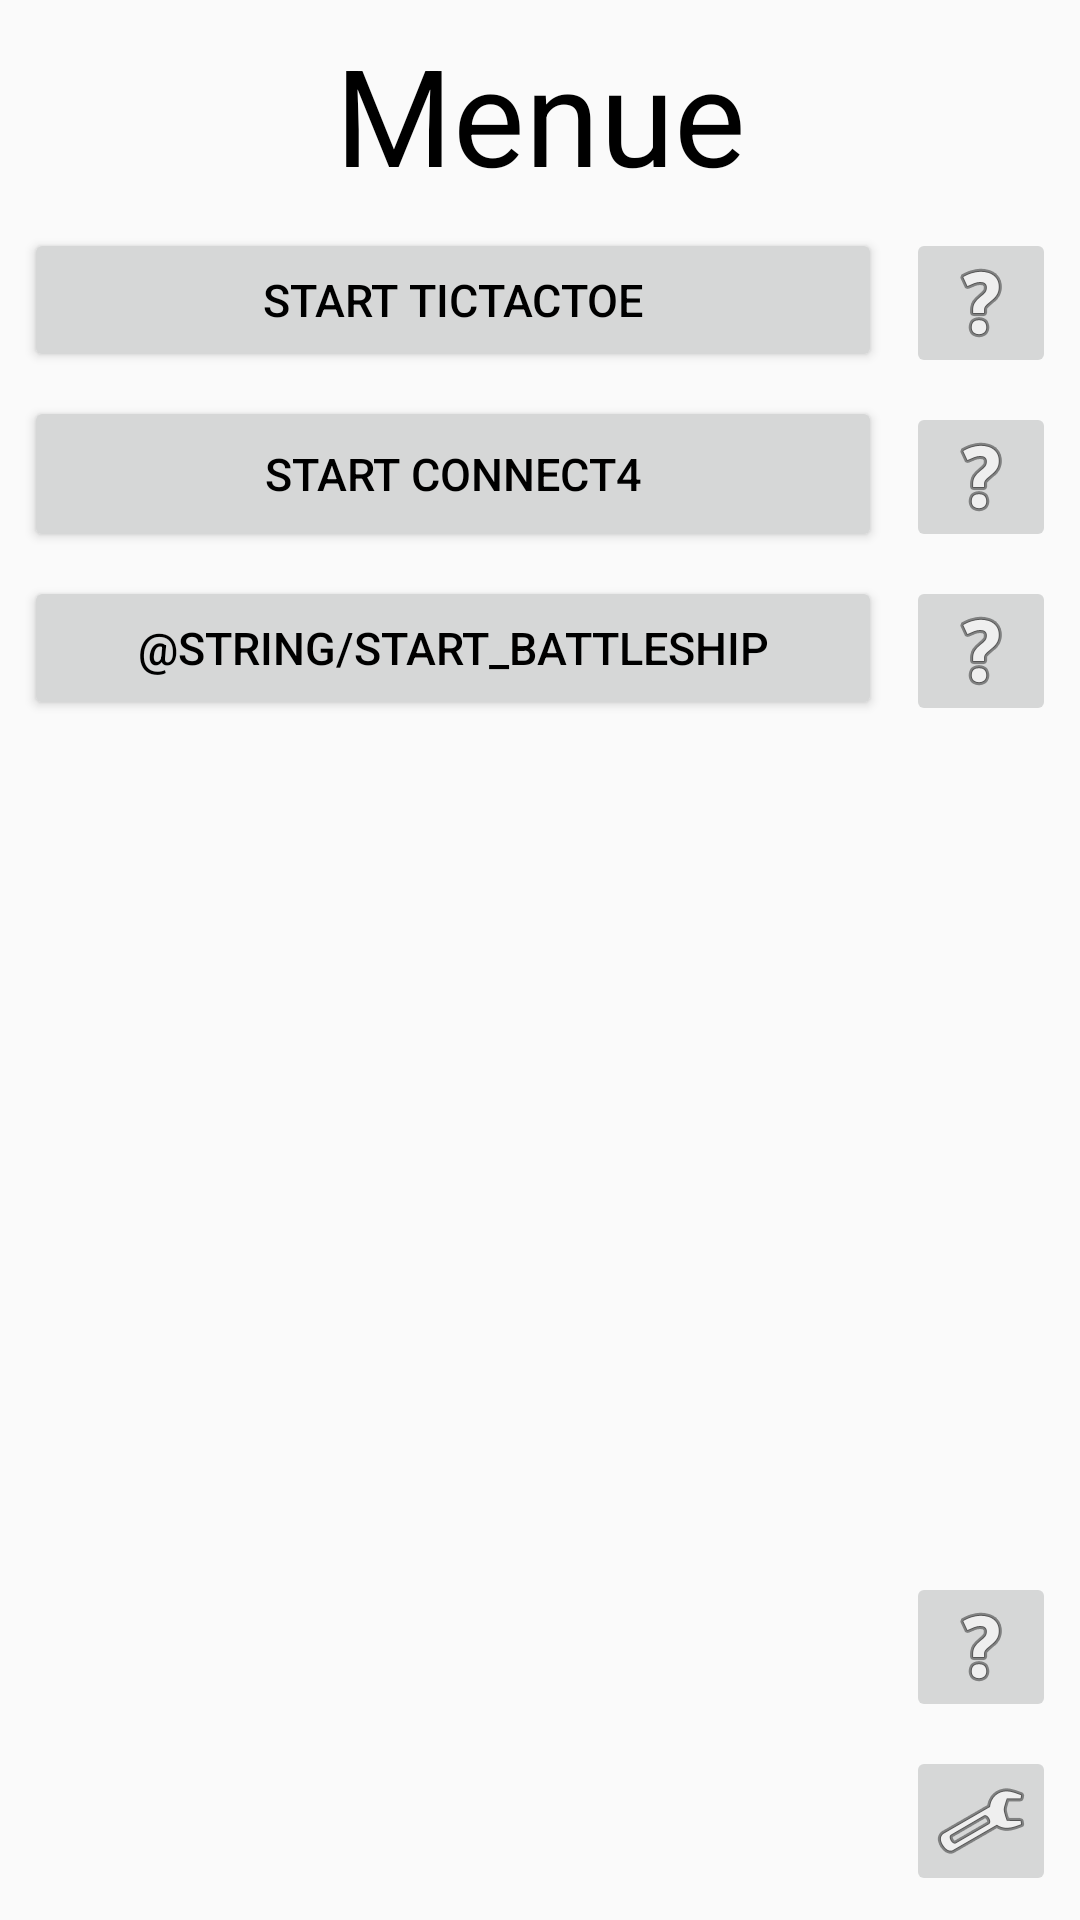

Screen size 1080×1920. Icon name, then its box in pixels as (x1,y1,x2,y2):
How to play: (918,246,1044,360), (918,420,1044,534), (918,594,1044,708), (918,1590,1044,1704)
Settings: (918,1764,1044,1878)
